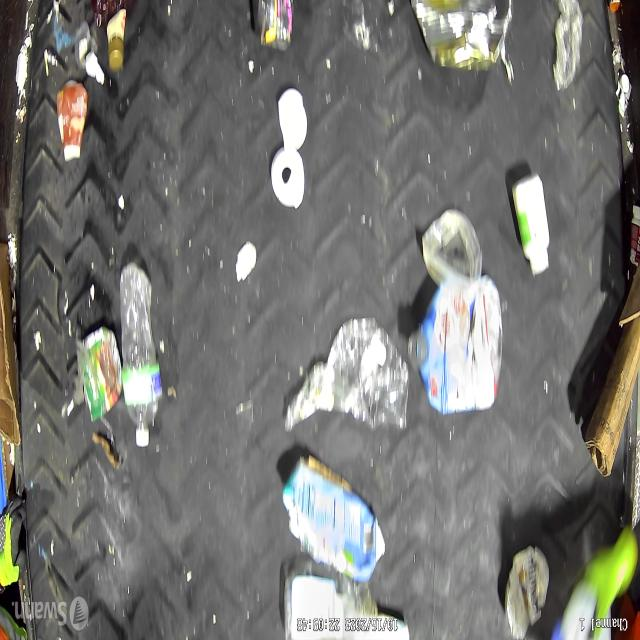can: (410, 0, 513, 71), (78, 322, 124, 422)
non_white_jug: (282, 454, 386, 579)
plastic_bottle: (284, 315, 410, 433), (409, 274, 504, 413), (118, 262, 160, 448)
